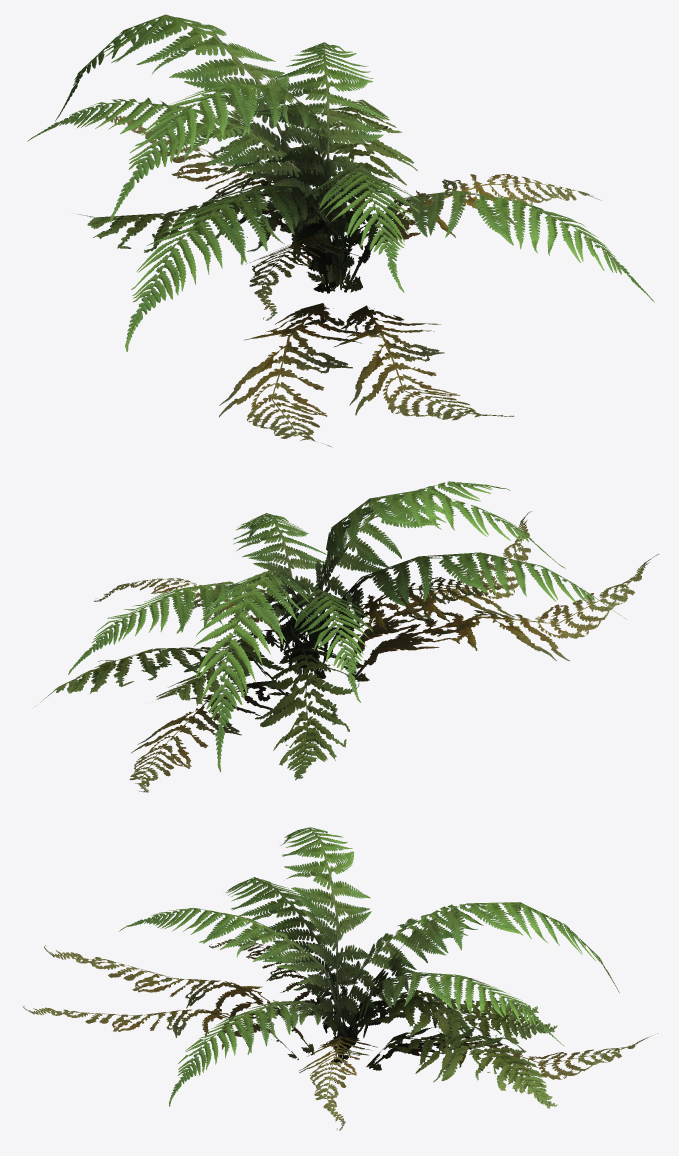
The model's file is PW_Plant_Fern_Realistic_01.glb.
3 views of the same model, one above another, from view 1: azimuth 30°, elevation 25°; view 2: azimuth 150°, elevation 25°; view 3: azimuth 270°, elevation 25° (orthographic). The views are drawn at different scales.
Visible parts, largest first — view 1: PW_Plant_Fern_Realistic_01_LOD0; view 2: PW_Plant_Fern_Realistic_01_LOD0; view 3: PW_Plant_Fern_Realistic_01_LOD0.
Boxes of the visible parts, x1=… form: PW_Plant_Fern_Realistic_01_LOD0: x1=27, y1=14, x2=654, y2=447; PW_Plant_Fern_Realistic_01_LOD0: x1=36, y1=481, x2=659, y2=792; PW_Plant_Fern_Realistic_01_LOD0: x1=23, y1=827, x2=657, y2=1130.
Size of the model in its own units: 1.97 by 0.8582 by 2.69.
1 material, 1 textured.
